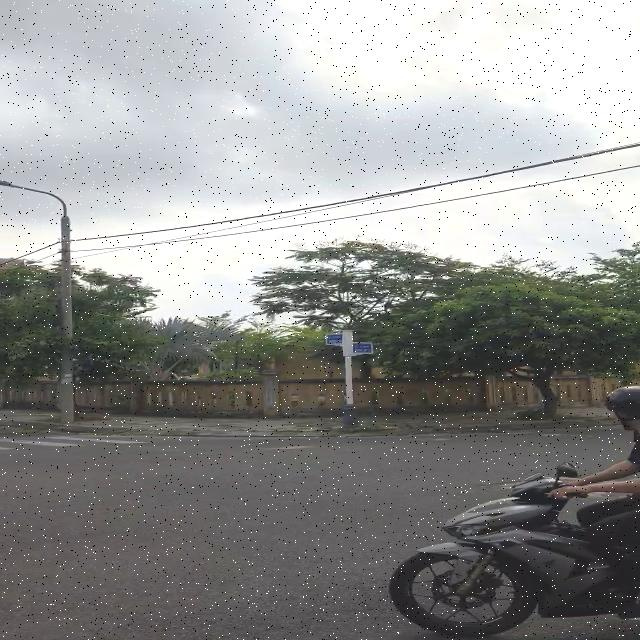helmet: (604, 386, 640, 427)
